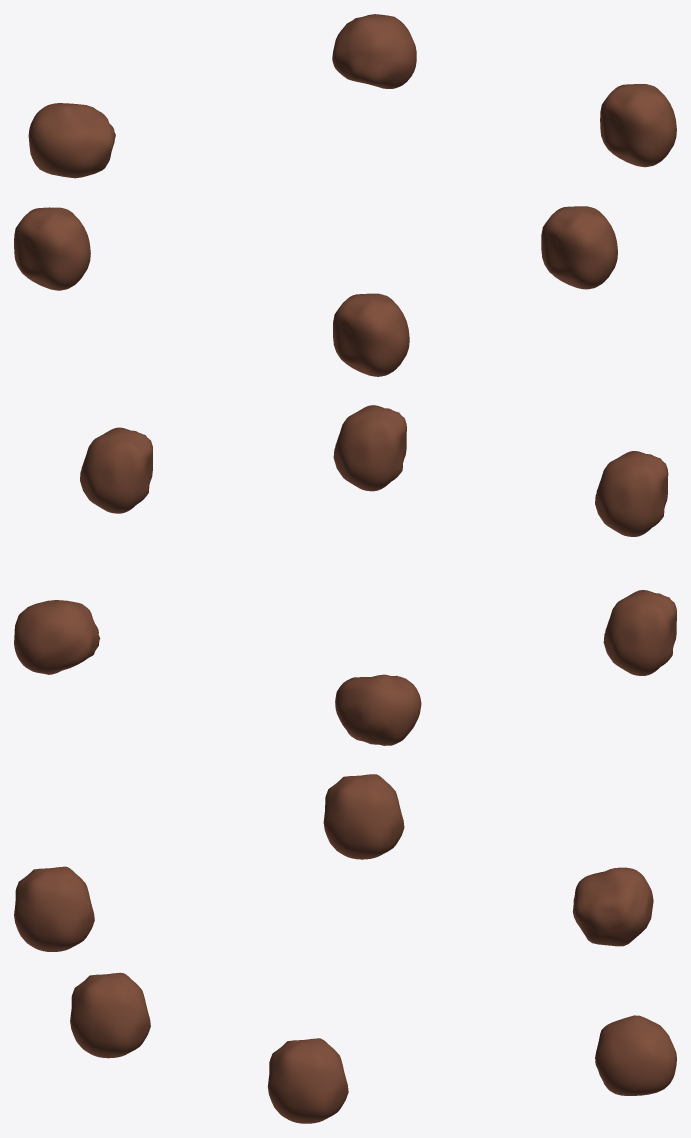
File: matesers.glb
3 views of the same model, one above another, from view 1: azimuth 30°, elevation 25°; view 2: azimuth 150°, elevation 25°; view 3: azimuth 270°, elevation 25° (orthographic).
Visible parts, largest first — view 1: maltesers; view 2: maltesers; view 3: maltesers.
Part boxes in pixels (x1=…): maltesers: x1=14, y1=14, x2=676, y2=376; maltesers: x1=14, y1=405, x2=676, y2=745; maltesers: x1=14, y1=774, x2=676, y2=1123.
Bounding box in the file's own units: 0.1136 × 0.0171 × 0.105.
